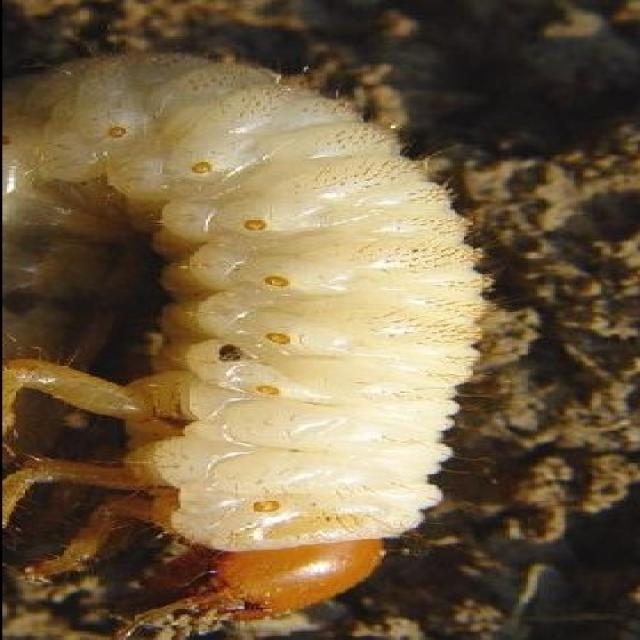grub: (4, 43, 484, 618)
